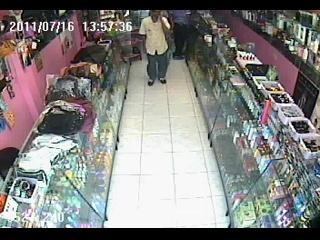Normal: (138, 11, 172, 86), (169, 11, 191, 60)
